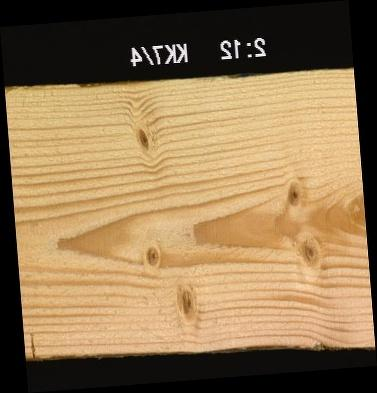sound_knot: (300, 235, 322, 267), (178, 280, 197, 316), (144, 244, 163, 268), (286, 177, 303, 203), (137, 123, 152, 152)
